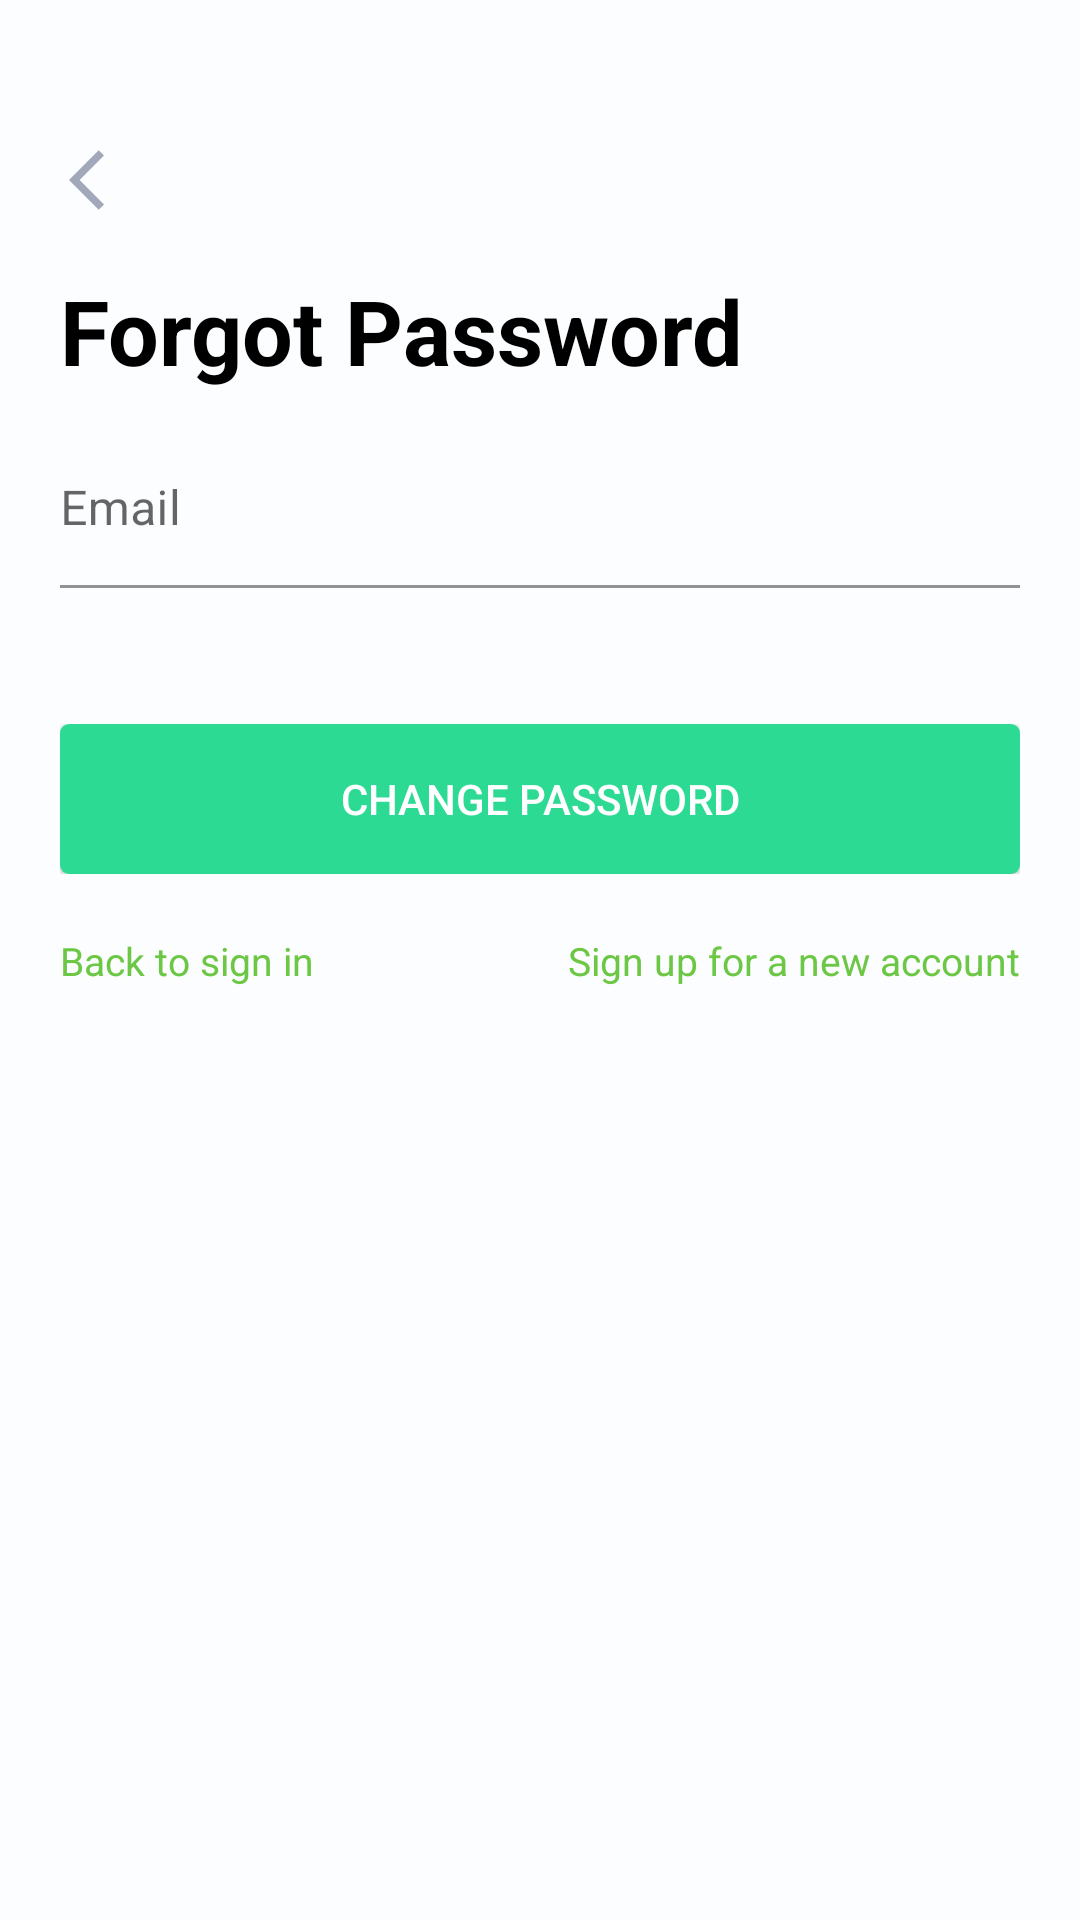

Screen size 1080 x 1920. Icon name, then its center in pixels as (x=x, y=y):
back: (x=86, y=180)
